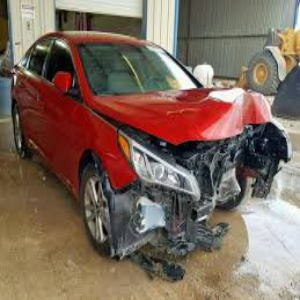bonnet: (151, 81, 279, 137)
bumper: (162, 138, 254, 242)
